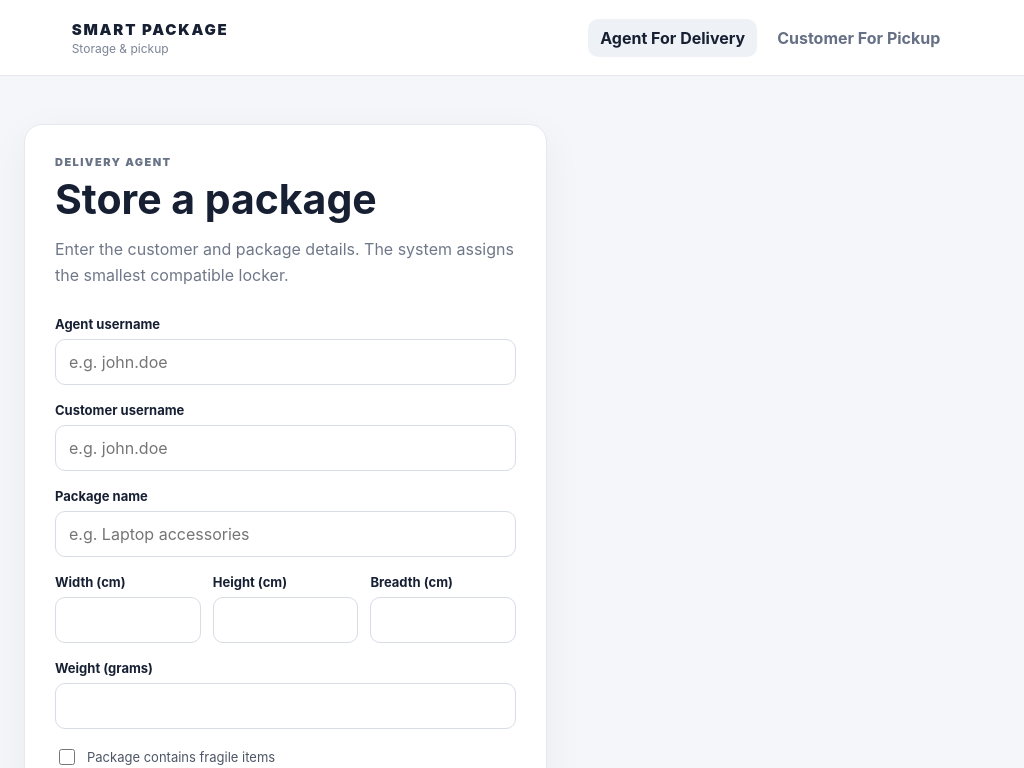
Test case: Smart Package Storage UI › allows switching to customer workflow
Step 1. Click the button "Customer For Pickup" → (859, 38), box [765,18,952,56]
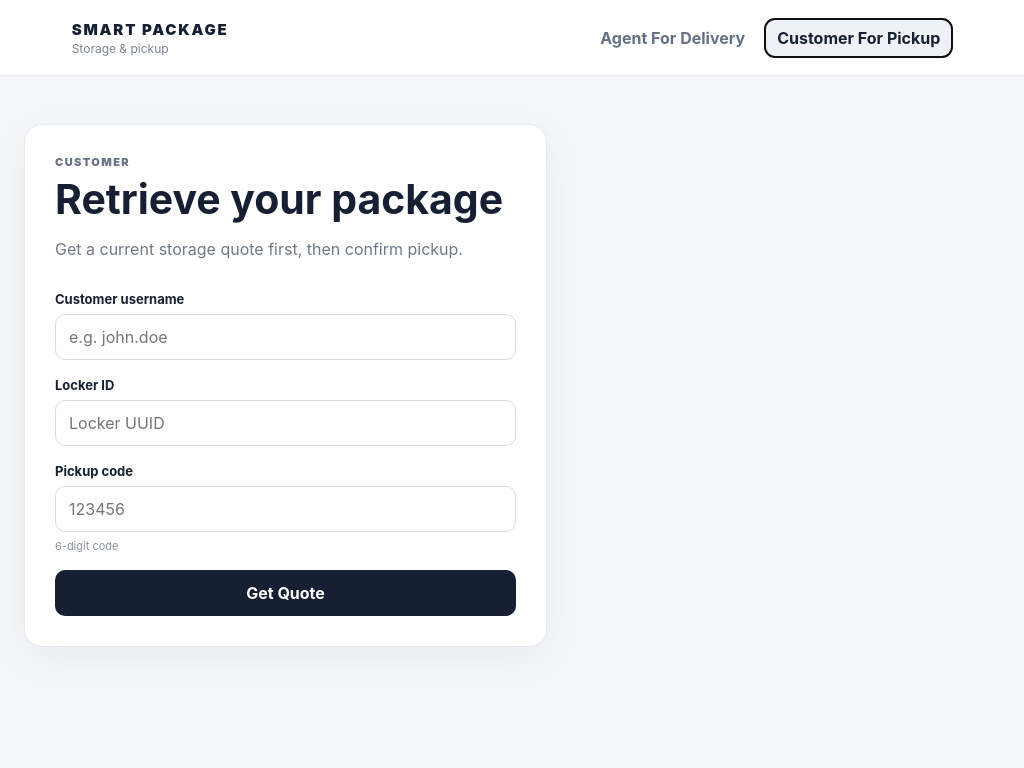
Result: the text "Locker ID" is shown at [55,377,114,393]
Result: the text "Pickup code" is shown at [55,463,133,479]
